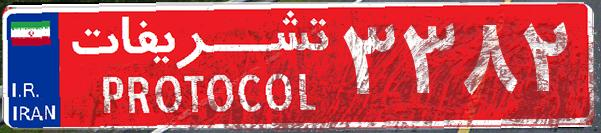2: (520, 20, 580, 115)
3: (340, 20, 400, 115), (400, 20, 460, 115)
8: (460, 20, 520, 115)
تشریفات: (60, 8, 340, 125)
